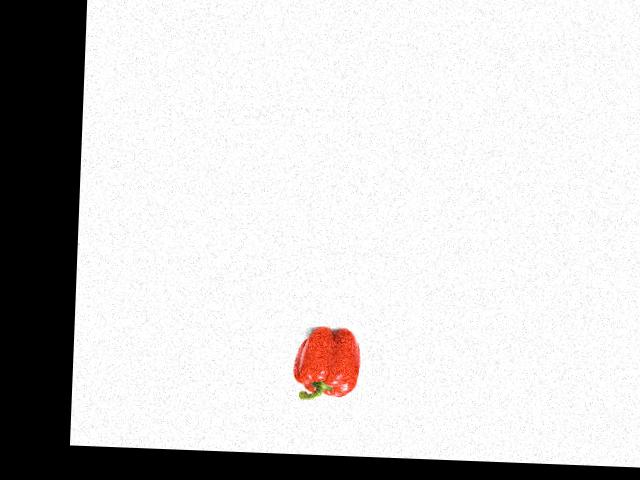bell_pepper: (291, 324, 362, 403)
